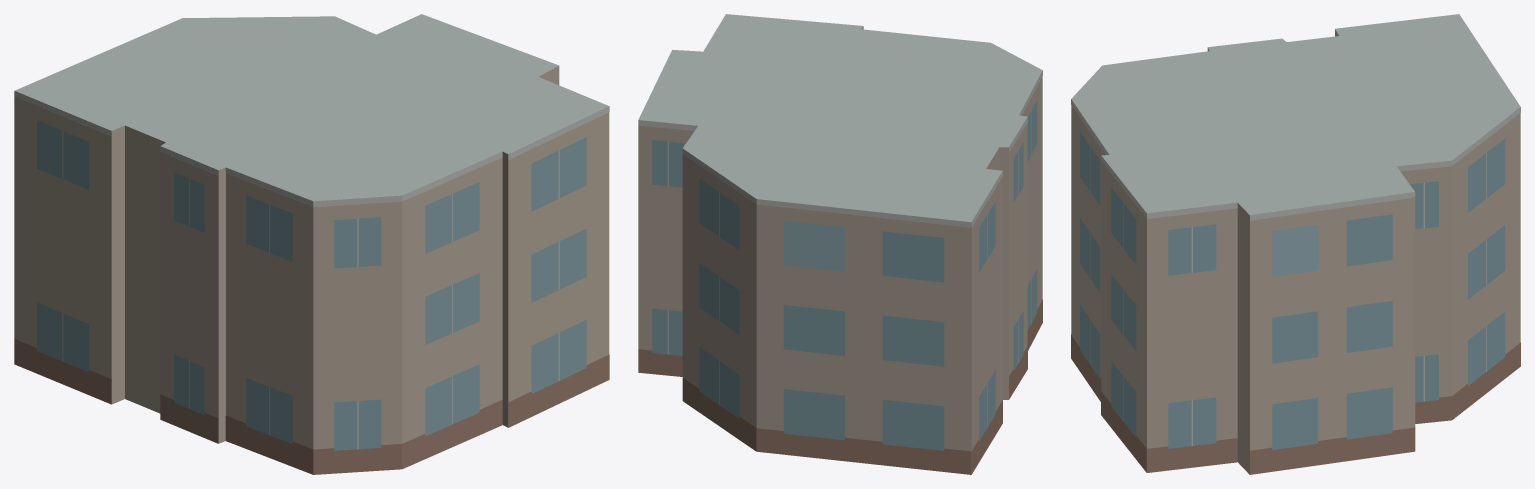
The model's file is survey-upis-32725128.glb.
3 views of the same model, side by side, from view 1: azimuth 30°, elevation 25°; view 2: azimuth 150°, elevation 25°; view 3: azimuth 270°, elevation 25° (orthographic). The views are drawn at different scales.
Visible parts, largest first — view 1: survey-upis-32725128.tmp; view 2: survey-upis-32725128.tmp; view 3: survey-upis-32725128.tmp.
Boxes of the visible parts, box(x1,y1,x2,y2) form: survey-upis-32725128.tmp: box(14, 14, 609, 474); survey-upis-32725128.tmp: box(638, 14, 1042, 474); survey-upis-32725128.tmp: box(1071, 14, 1520, 474).
Bounding box in the file's own units: 18.62 × 11.2 × 17.59.
